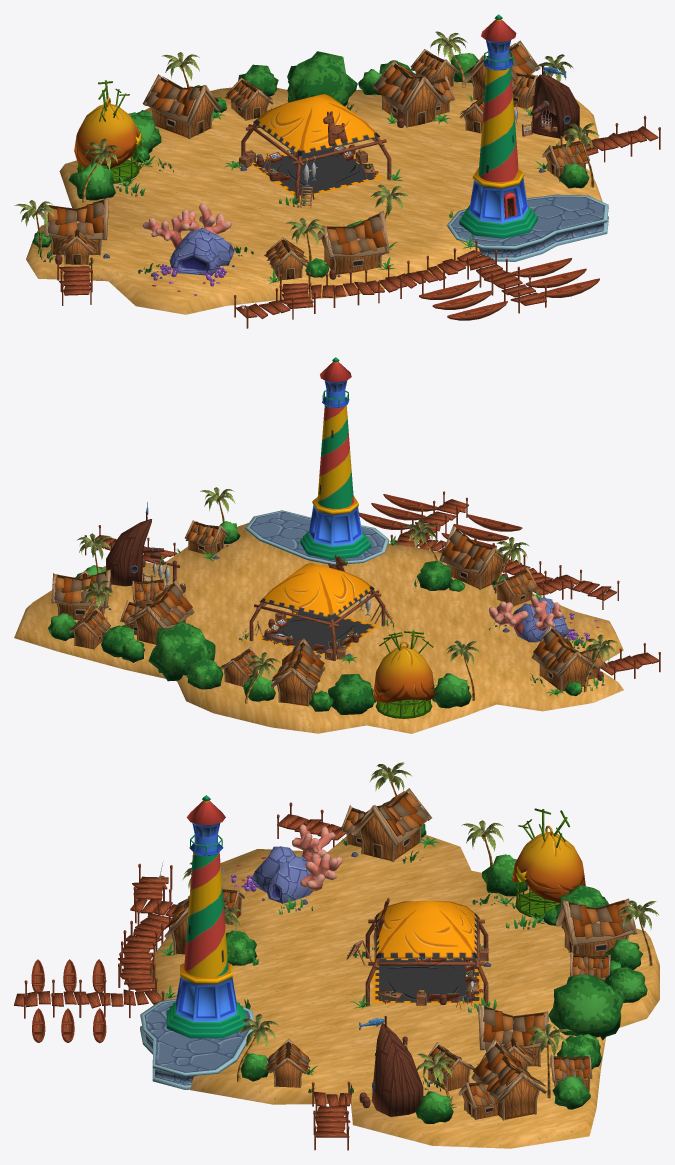
Rendered from Spawn Island.fbx.
The picture shows the model from 3 angles, top to bottom: view 1: azimuth 30°, elevation 25°; view 2: azimuth 150°, elevation 25°; view 3: azimuth 270°, elevation 25°; orthographic projection. The views are drawn at different scales.
Visible parts, largest first — view 1: ground, Cube, Llama panel, veil, house 01.004, house 01.002, house 01.010, bush2.012, Cube.003, house 01.003, coral 3.008, house 01.001 (+28 smaller); view 2: ground, Cube, Llama panel, veil, bush2.012, house 01.002, house 01.003, house 01.004, Cube.003, house 01.010, house 01.001, bush2.001 (+14 smaller); view 3: ground, Cube, Llama panel, veil, bush2.012, Cube.003, house 01.003, house 01.004, house 01.001, house 01.010, coral 3.008, HOUSE2.004 (+23 smaller).
Boxes of the visible parts, <box> form: ground: <box>26,74,602,314</box>; Cube: <box>447,14,608,261</box>; Llama panel: <box>241,94,391,202</box>; veil: <box>74,80,142,183</box>; house 01.004: <box>142,74,220,139</box>; house 01.002: <box>317,211,389,274</box>; house 01.010: <box>372,60,445,127</box>; bush2.012: <box>287,51,357,106</box>; Cube.003: <box>530,64,579,138</box>; house 01.003: <box>44,197,108,255</box>; coral 3.008: <box>169,227,234,275</box>; house 01.001: <box>464,40,539,100</box>; ground: <box>14,523,623,733</box>; Cube: <box>245,357,388,564</box>; Llama panel: <box>249,555,385,660</box>; veil: <box>373,630,434,718</box>; bush2.012: <box>148,621,215,681</box>; house 01.002: <box>439,525,509,589</box>; house 01.003: <box>531,624,596,692</box>; house 01.004: <box>270,638,325,706</box>; Cube.003: <box>106,502,164,586</box>; house 01.010: <box>128,579,194,644</box>; house 01.001: <box>51,569,111,620</box>; bush2.001: <box>328,673,375,714</box>; ground: <box>150,834,659,1148</box>; Cube: <box>140,795,254,1089</box>; Llama panel: <box>365,898,488,1006</box>; veil: <box>512,808,585,918</box>; bush2.012: <box>548,974,624,1040</box>; Cube.003: <box>359,1016,423,1116</box>; house 01.003: <box>351,788,431,861</box>; house 01.004: <box>556,898,637,955</box>; house 01.001: <box>471,1038,546,1120</box>; house 01.010: <box>478,1003,548,1066</box>; coral 3.008: <box>251,846,312,903</box>; HOUSE2.004: <box>265,1038,310,1087</box>.
Size of the model in its own units: 14784 by 5229 by 12455.
